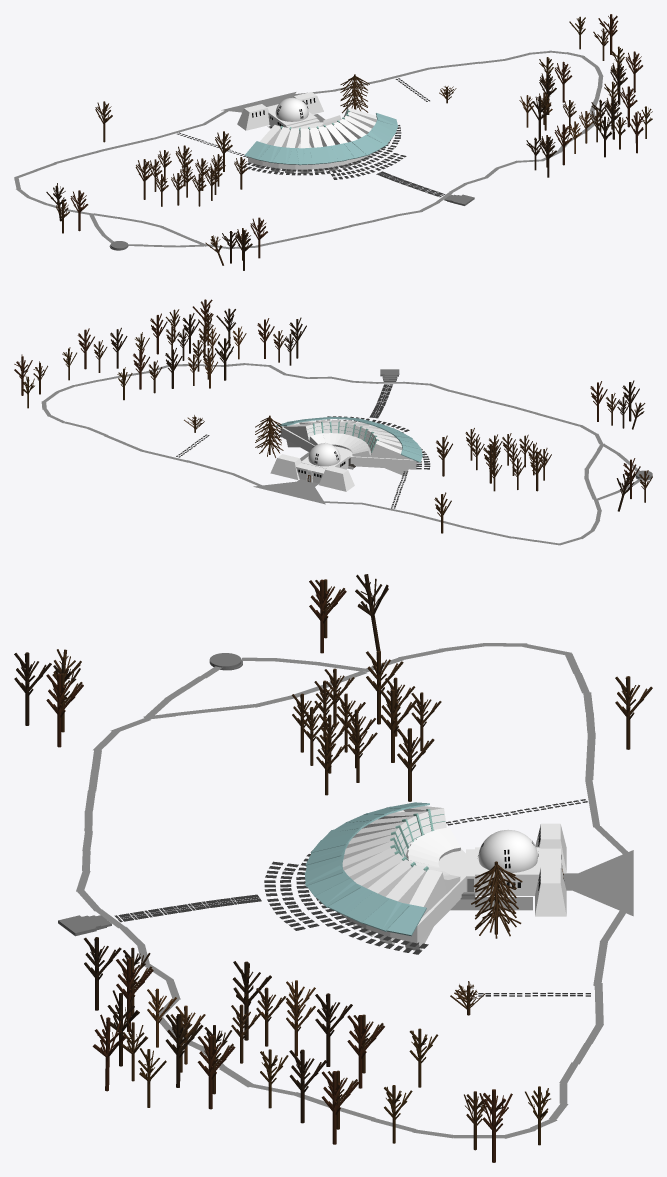
File: asmundarsafn_04_03.obj
3 views of the same model, one above another, from view 1: azimuth 30°, elevation 25°; view 2: azimuth 150°, elevation 25°; view 3: azimuth 270°, elevation 25° (orthographic). The views are drawn at different scales.
Parts seen in each view (by area): view 1: Plane.001, Cube.047, Cube.033, Plane.131, syningarsalur, Sphere, h_hlid, Cylinder.066; view 2: Plane.001, Cube.033, syningarsalur, Cube.047, h_hlid, Sphere, v_hlid, Cylinder.066; view 3: Plane.001, Cube.033, Cube.047, Plane.131, syningarsalur, Sphere, v_hlid, Cylinder.066, innanhus, Plane.067.
Part boxes in pixels (box(x1,y1,x2,y2)): Plane.001: box(14, 50, 603, 250); Cube.047: box(244, 113, 398, 165); Cube.033: box(255, 107, 376, 173); Plane.131: box(242, 125, 406, 179); syningarsalur: box(248, 122, 373, 169); Sphere: box(275, 98, 308, 121); h_hlid: box(237, 104, 269, 130); Cylinder.066: box(340, 74, 369, 113); Plane.001: box(41, 363, 650, 545); Cube.033: box(283, 420, 411, 476); syningarsalur: box(281, 420, 416, 469); Cube.047: box(276, 416, 422, 462); h_hlid: box(319, 466, 354, 491); Sphere: box(308, 443, 340, 466); v_hlid: box(270, 454, 301, 479); Cylinder.066: box(255, 415, 283, 457); Plane.001: box(58, 643, 633, 1138); Cube.033: box(342, 806, 460, 950); Cube.047: box(304, 802, 429, 936); Plane.131: box(264, 850, 428, 954); syningarsalur: box(341, 810, 465, 943); Sphere: box(478, 829, 537, 872); v_hlid: box(535, 867, 566, 916); Cylinder.066: box(473, 861, 522, 938); innanhus: box(475, 847, 540, 895); Plane.067: box(114, 894, 261, 922).
Bounding box in the file's own units: 160 × 12.29 × 80.33.
